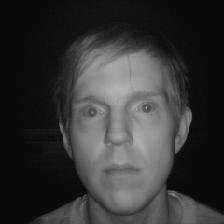normal: (47, 27, 205, 213)
